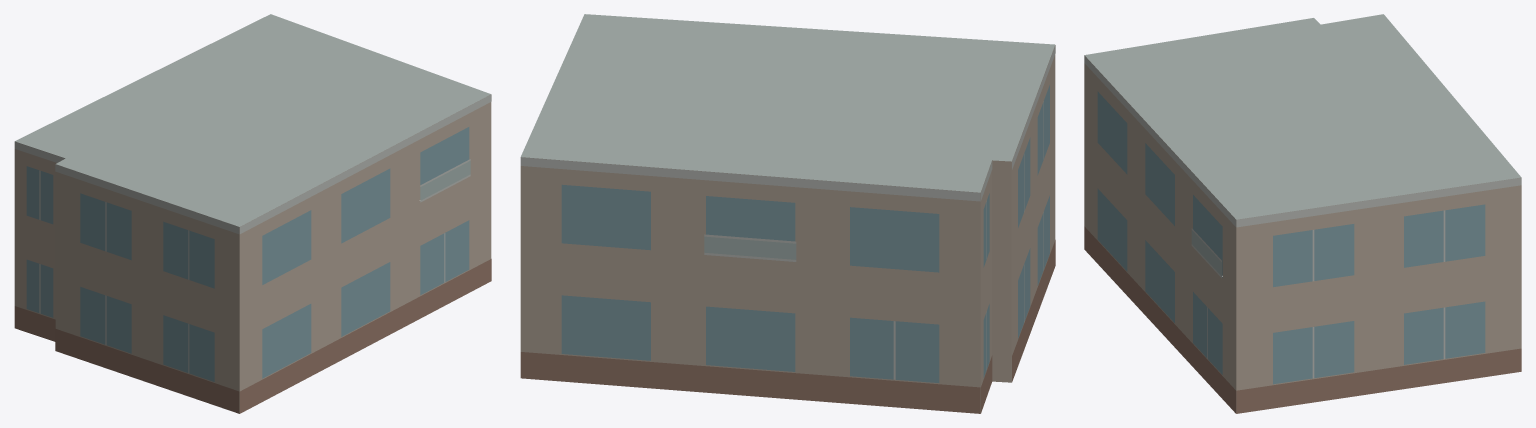
File: survey-upis-32584548.glb
3 renders of one model, left to right at view 1: azimuth 30°, elevation 25°; view 2: azimuth 150°, elevation 25°; view 3: azimuth 270°, elevation 25°, orthographic. The views are drawn at different scales.
Visible parts, largest first — view 1: survey-upis-32584548.tmp; view 2: survey-upis-32584548.tmp; view 3: survey-upis-32584548.tmp.
Boxes of the visible parts, left/top/right/bottom form: survey-upis-32584548.tmp: left=14, top=14, right=491, bottom=413; survey-upis-32584548.tmp: left=520, top=14, right=1055, bottom=413; survey-upis-32584548.tmp: left=1084, top=14, right=1521, bottom=413.
Bounding box in the file's own units: 13.87 × 6.1 × 12.46.
